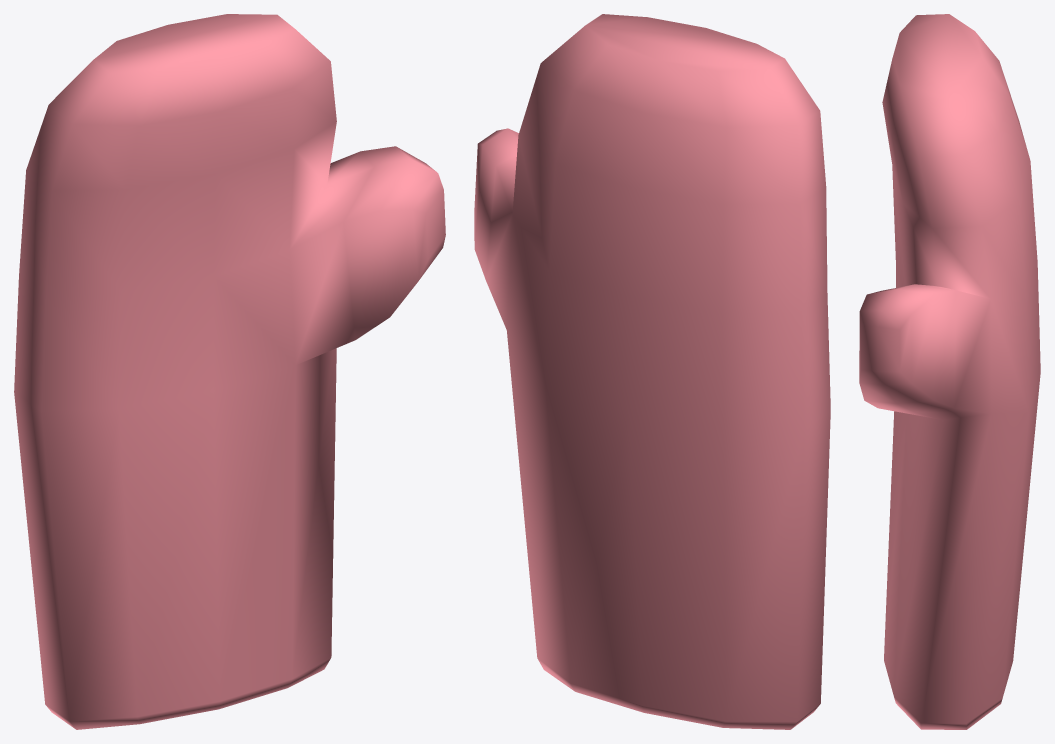
Rendered from insulator_oven_right.glb.
3 renders of one model, left to right at view 1: azimuth 30°, elevation 25°; view 2: azimuth 150°, elevation 25°; view 3: azimuth 270°, elevation 25°, orthographic. The views are drawn at different scales.
Parts seen in each view (by area): view 1: insulator oven right; view 2: insulator oven right; view 3: insulator oven right.
Part boxes in pixels (x1=…): insulator oven right: x1=14, y1=14, x2=445, y2=729; insulator oven right: x1=474, y1=14, x2=830, y2=729; insulator oven right: x1=859, y1=14, x2=1040, y2=729.
Bounding box in the file's own units: 2.77 × 4.61 × 1.23.
Materials: 1 (1 with a texture image).
